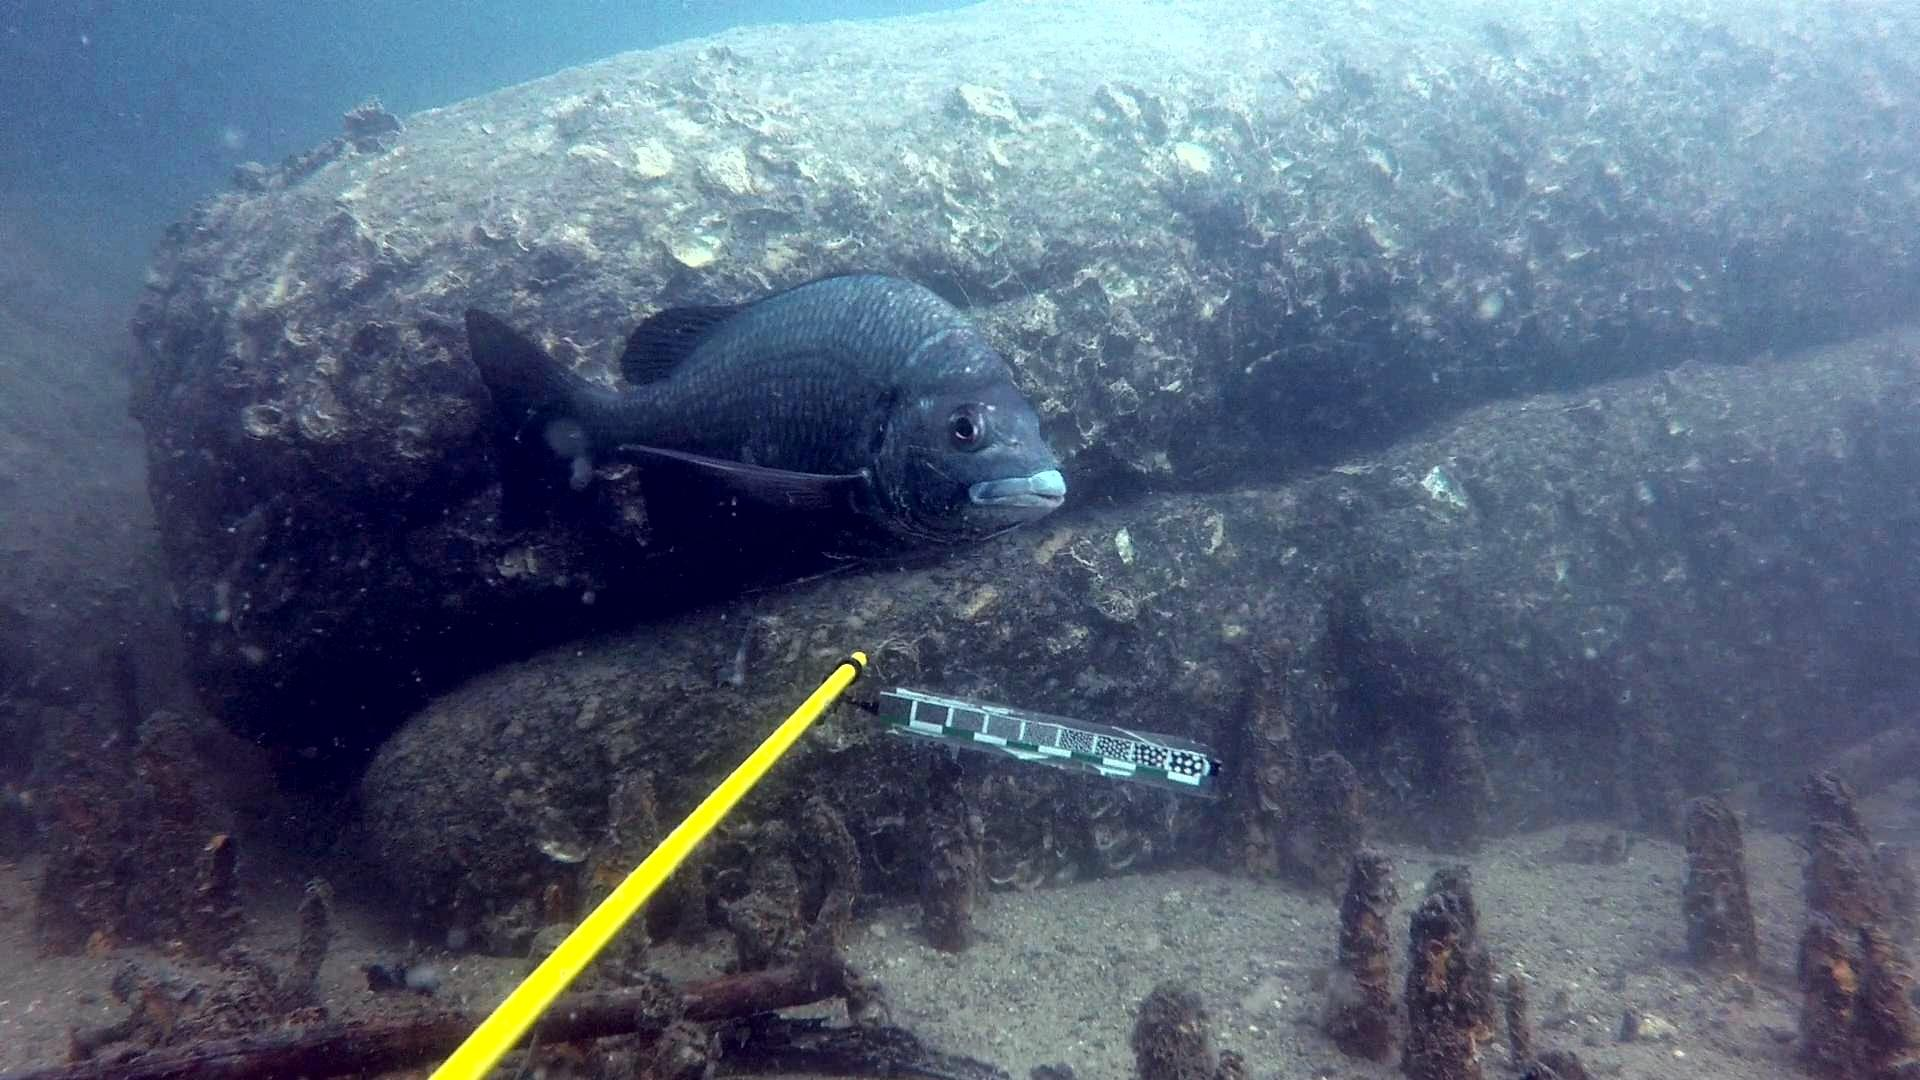acanthopagrus palmaris: (458, 268, 1072, 600)
